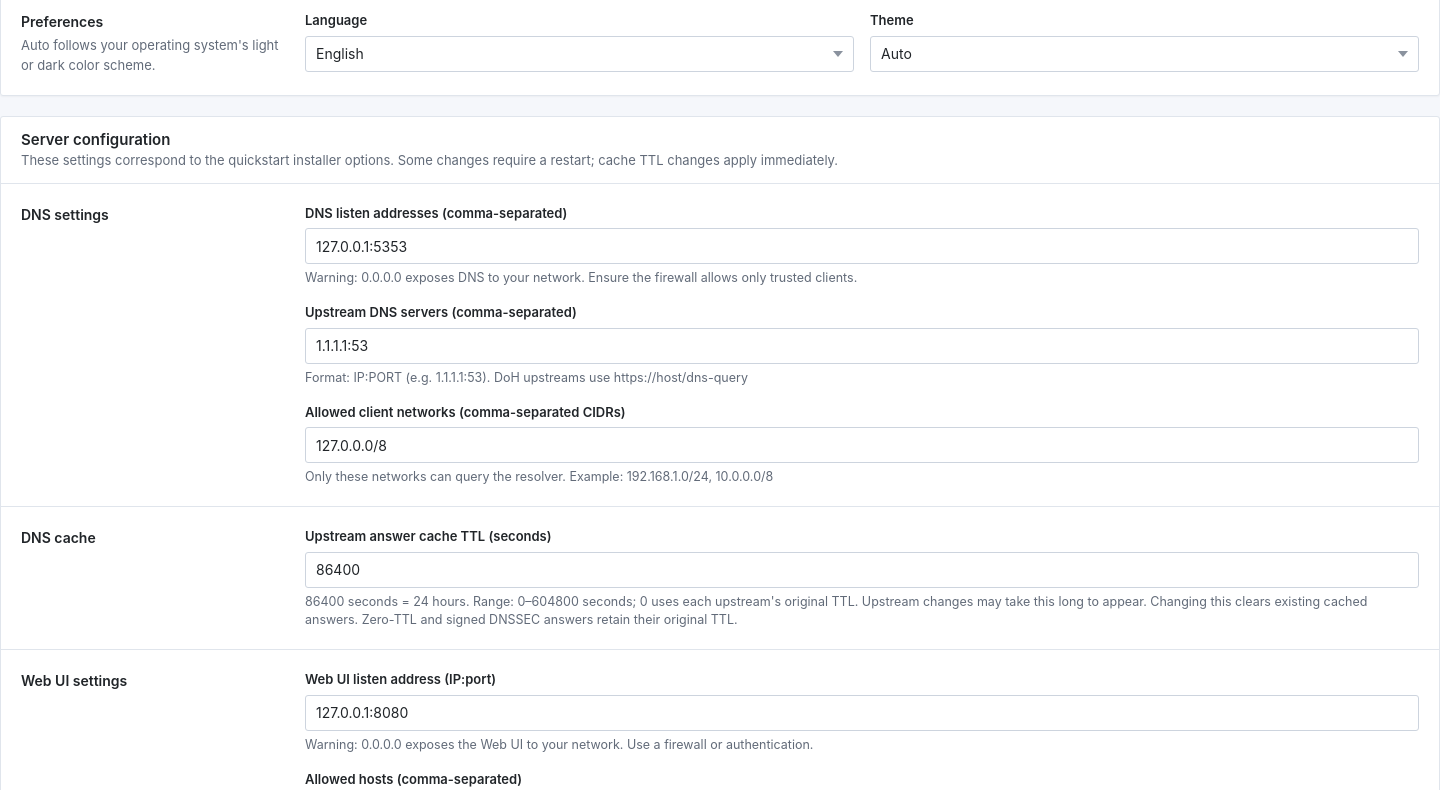
Test: highlights the fields named by a rejected configuration
This screenshot has width=1440, height=790.
Replace the text in the field labelled "Allowed client networks" with "127.0.0.0/8, lan" at (862, 445), box 305,427 -> 1419,463
(page scrolled)
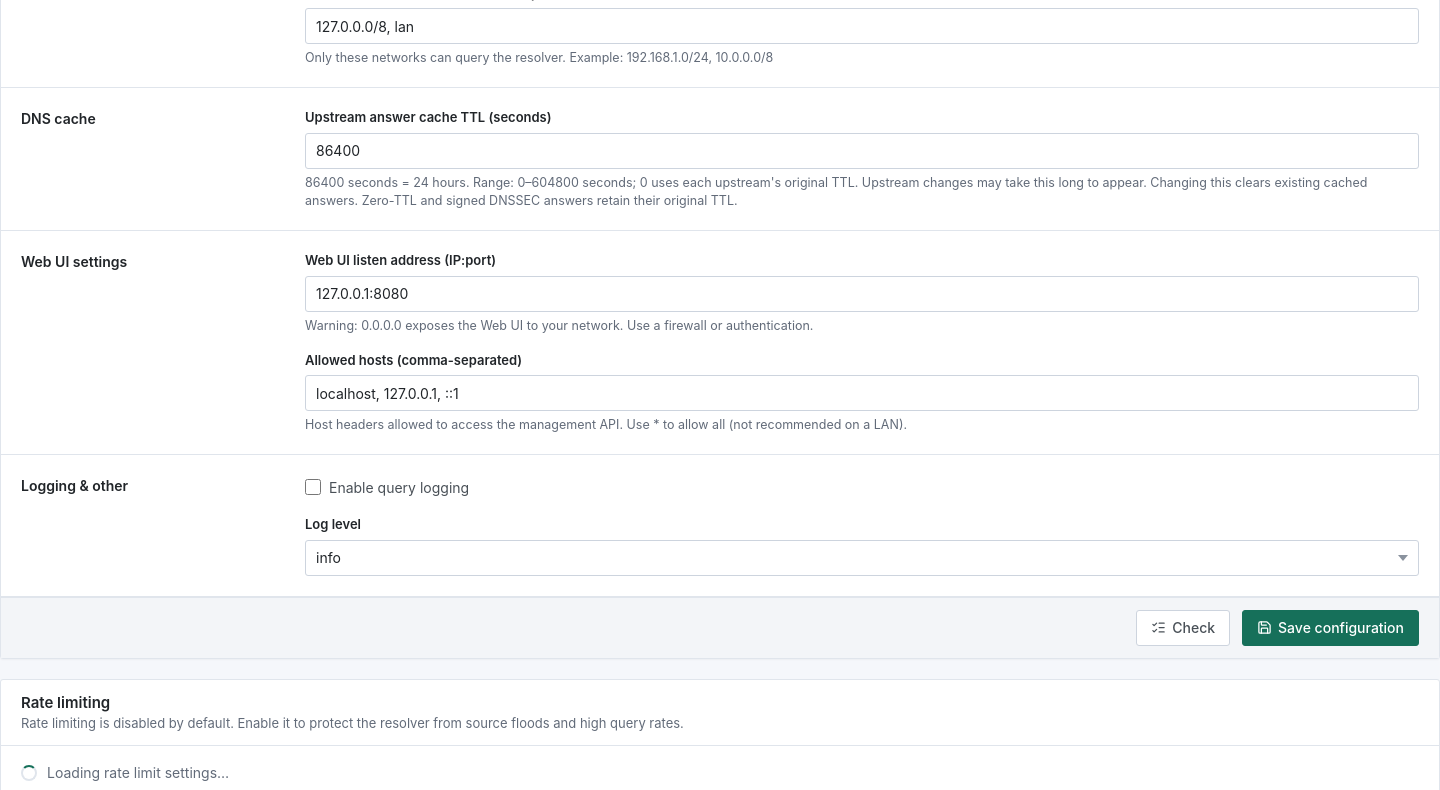
Click the button "Save configuration".
click(1331, 628)  # box 1242,610 -> 1419,646
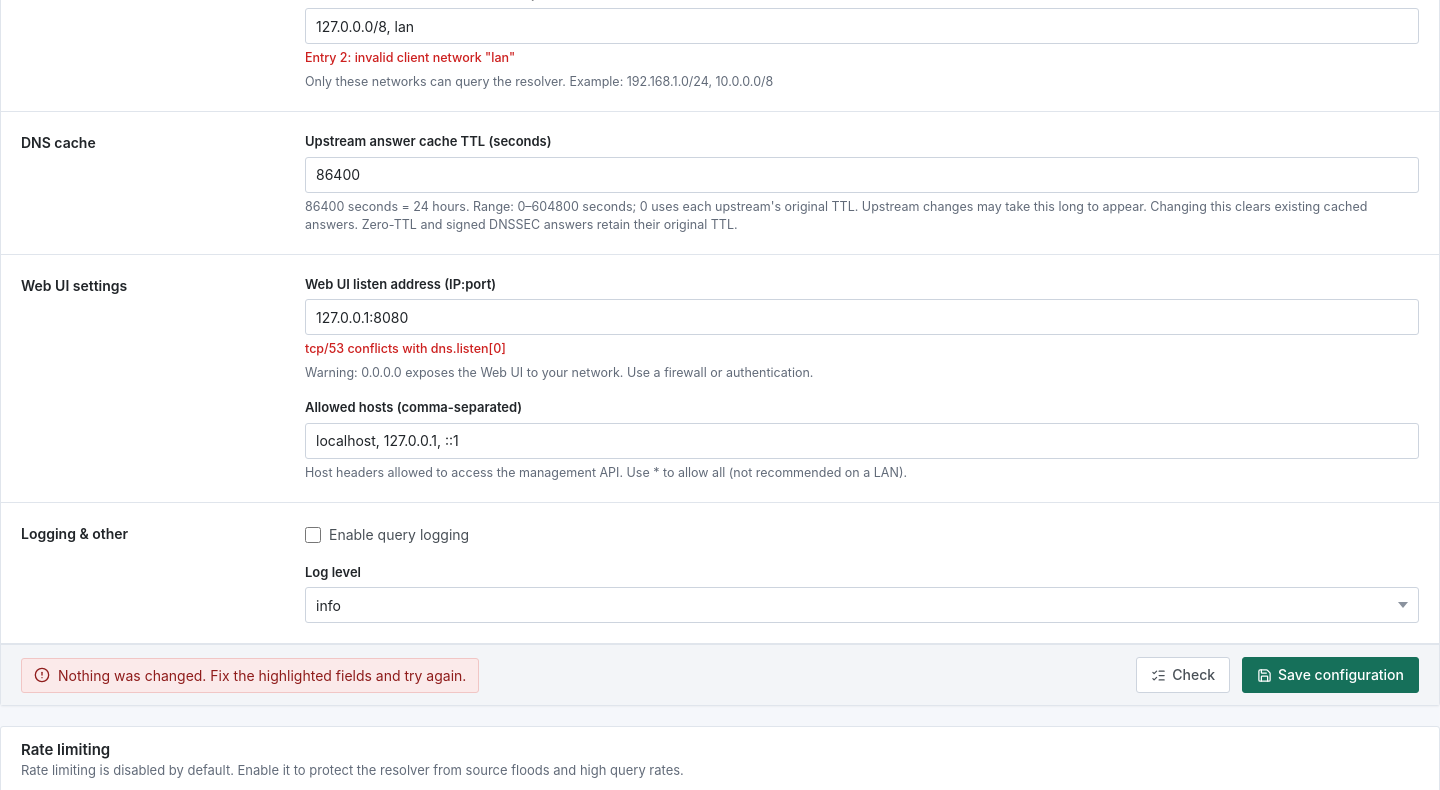
Expected: the text "Entry 2: invalid client network \"lan\"" is shown, 305,50 -> 515,65
Expected: the text "tcp/53 conflicts with dns.listen[0]" is shown, 305,341 -> 506,356
Expected: the text "Nothing was changed. Fix the highlighted fields and try again." is shown, 21,658 -> 479,693
// Editing a field clears its error.
Replace the text in the field labelled "Allowed client networks" with "127.0.0.0/8" at (862, 26), box 305,8 -> 1419,44
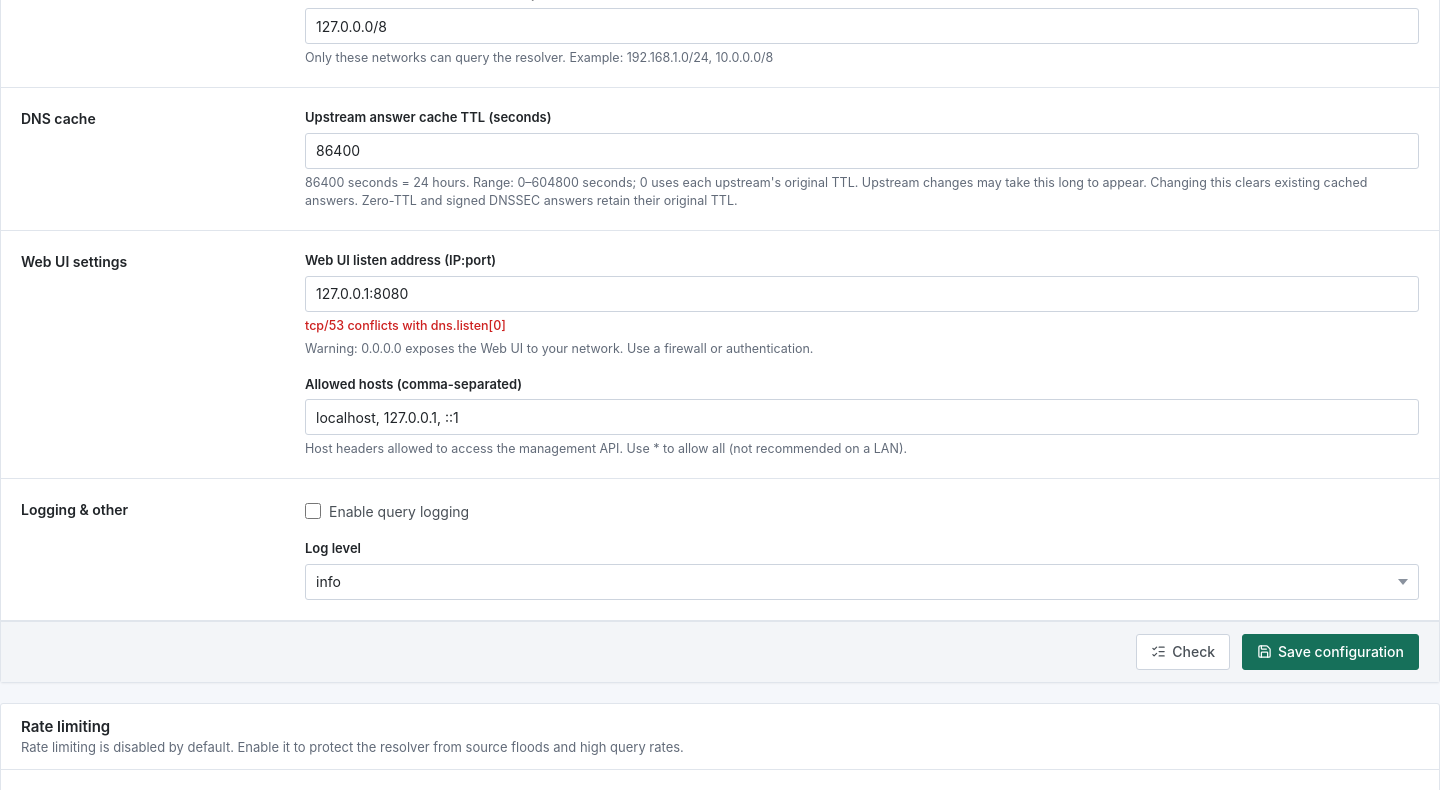
Expected: the field labelled "Allowed client networks" does not have attribute aria-invalid, 305,8 -> 1419,44
// The dry run marks restart-only fields without saving.
Click the button "Check".
click(1183, 652)  # box 1136,634 -> 1230,670
(page scrolled)
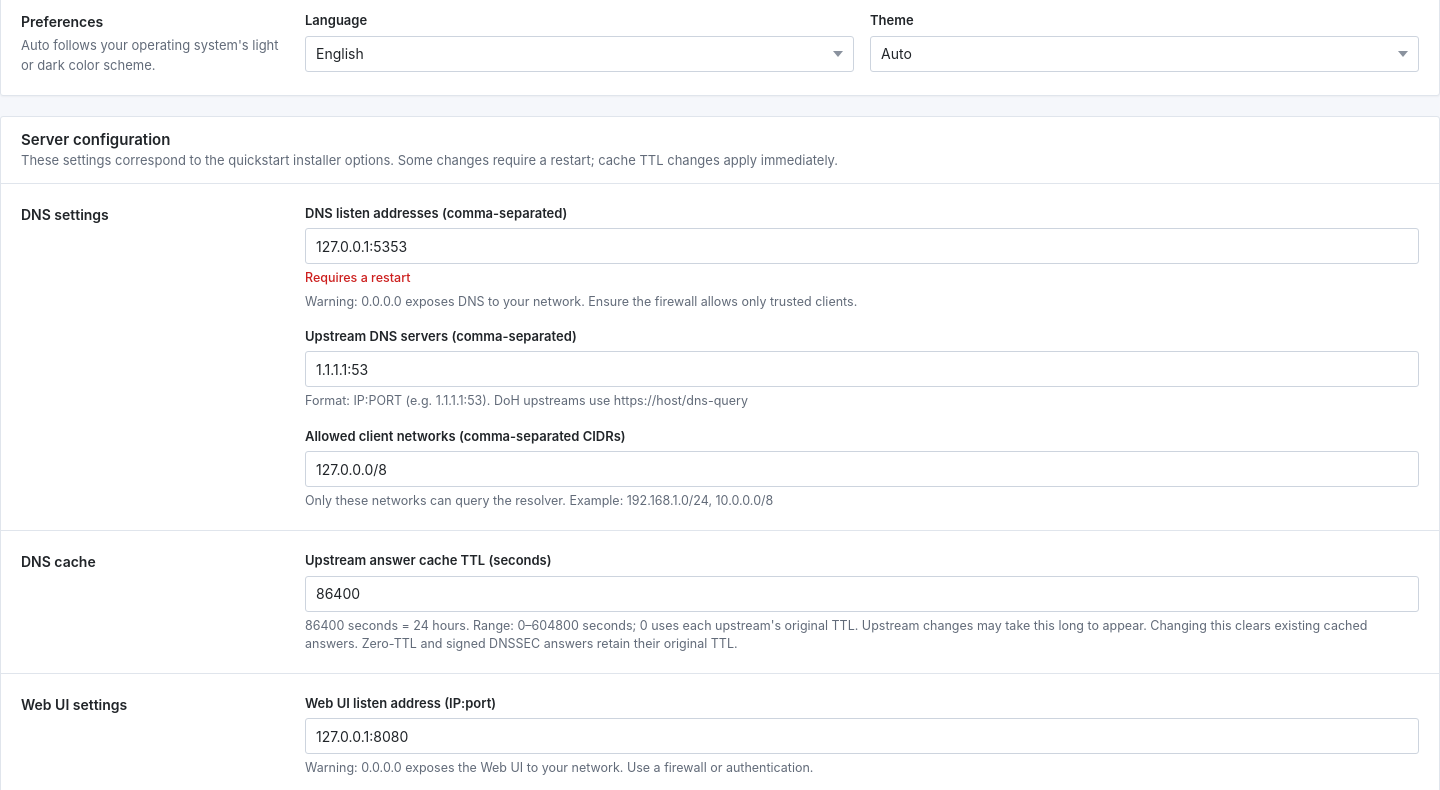
Expected: the text "Requires a restart" is shown, 305,270 -> 410,285
